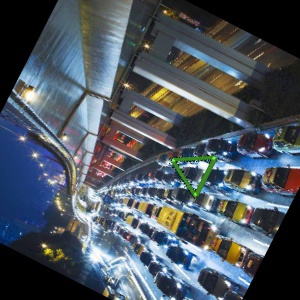triangle: (169, 152, 218, 199)
